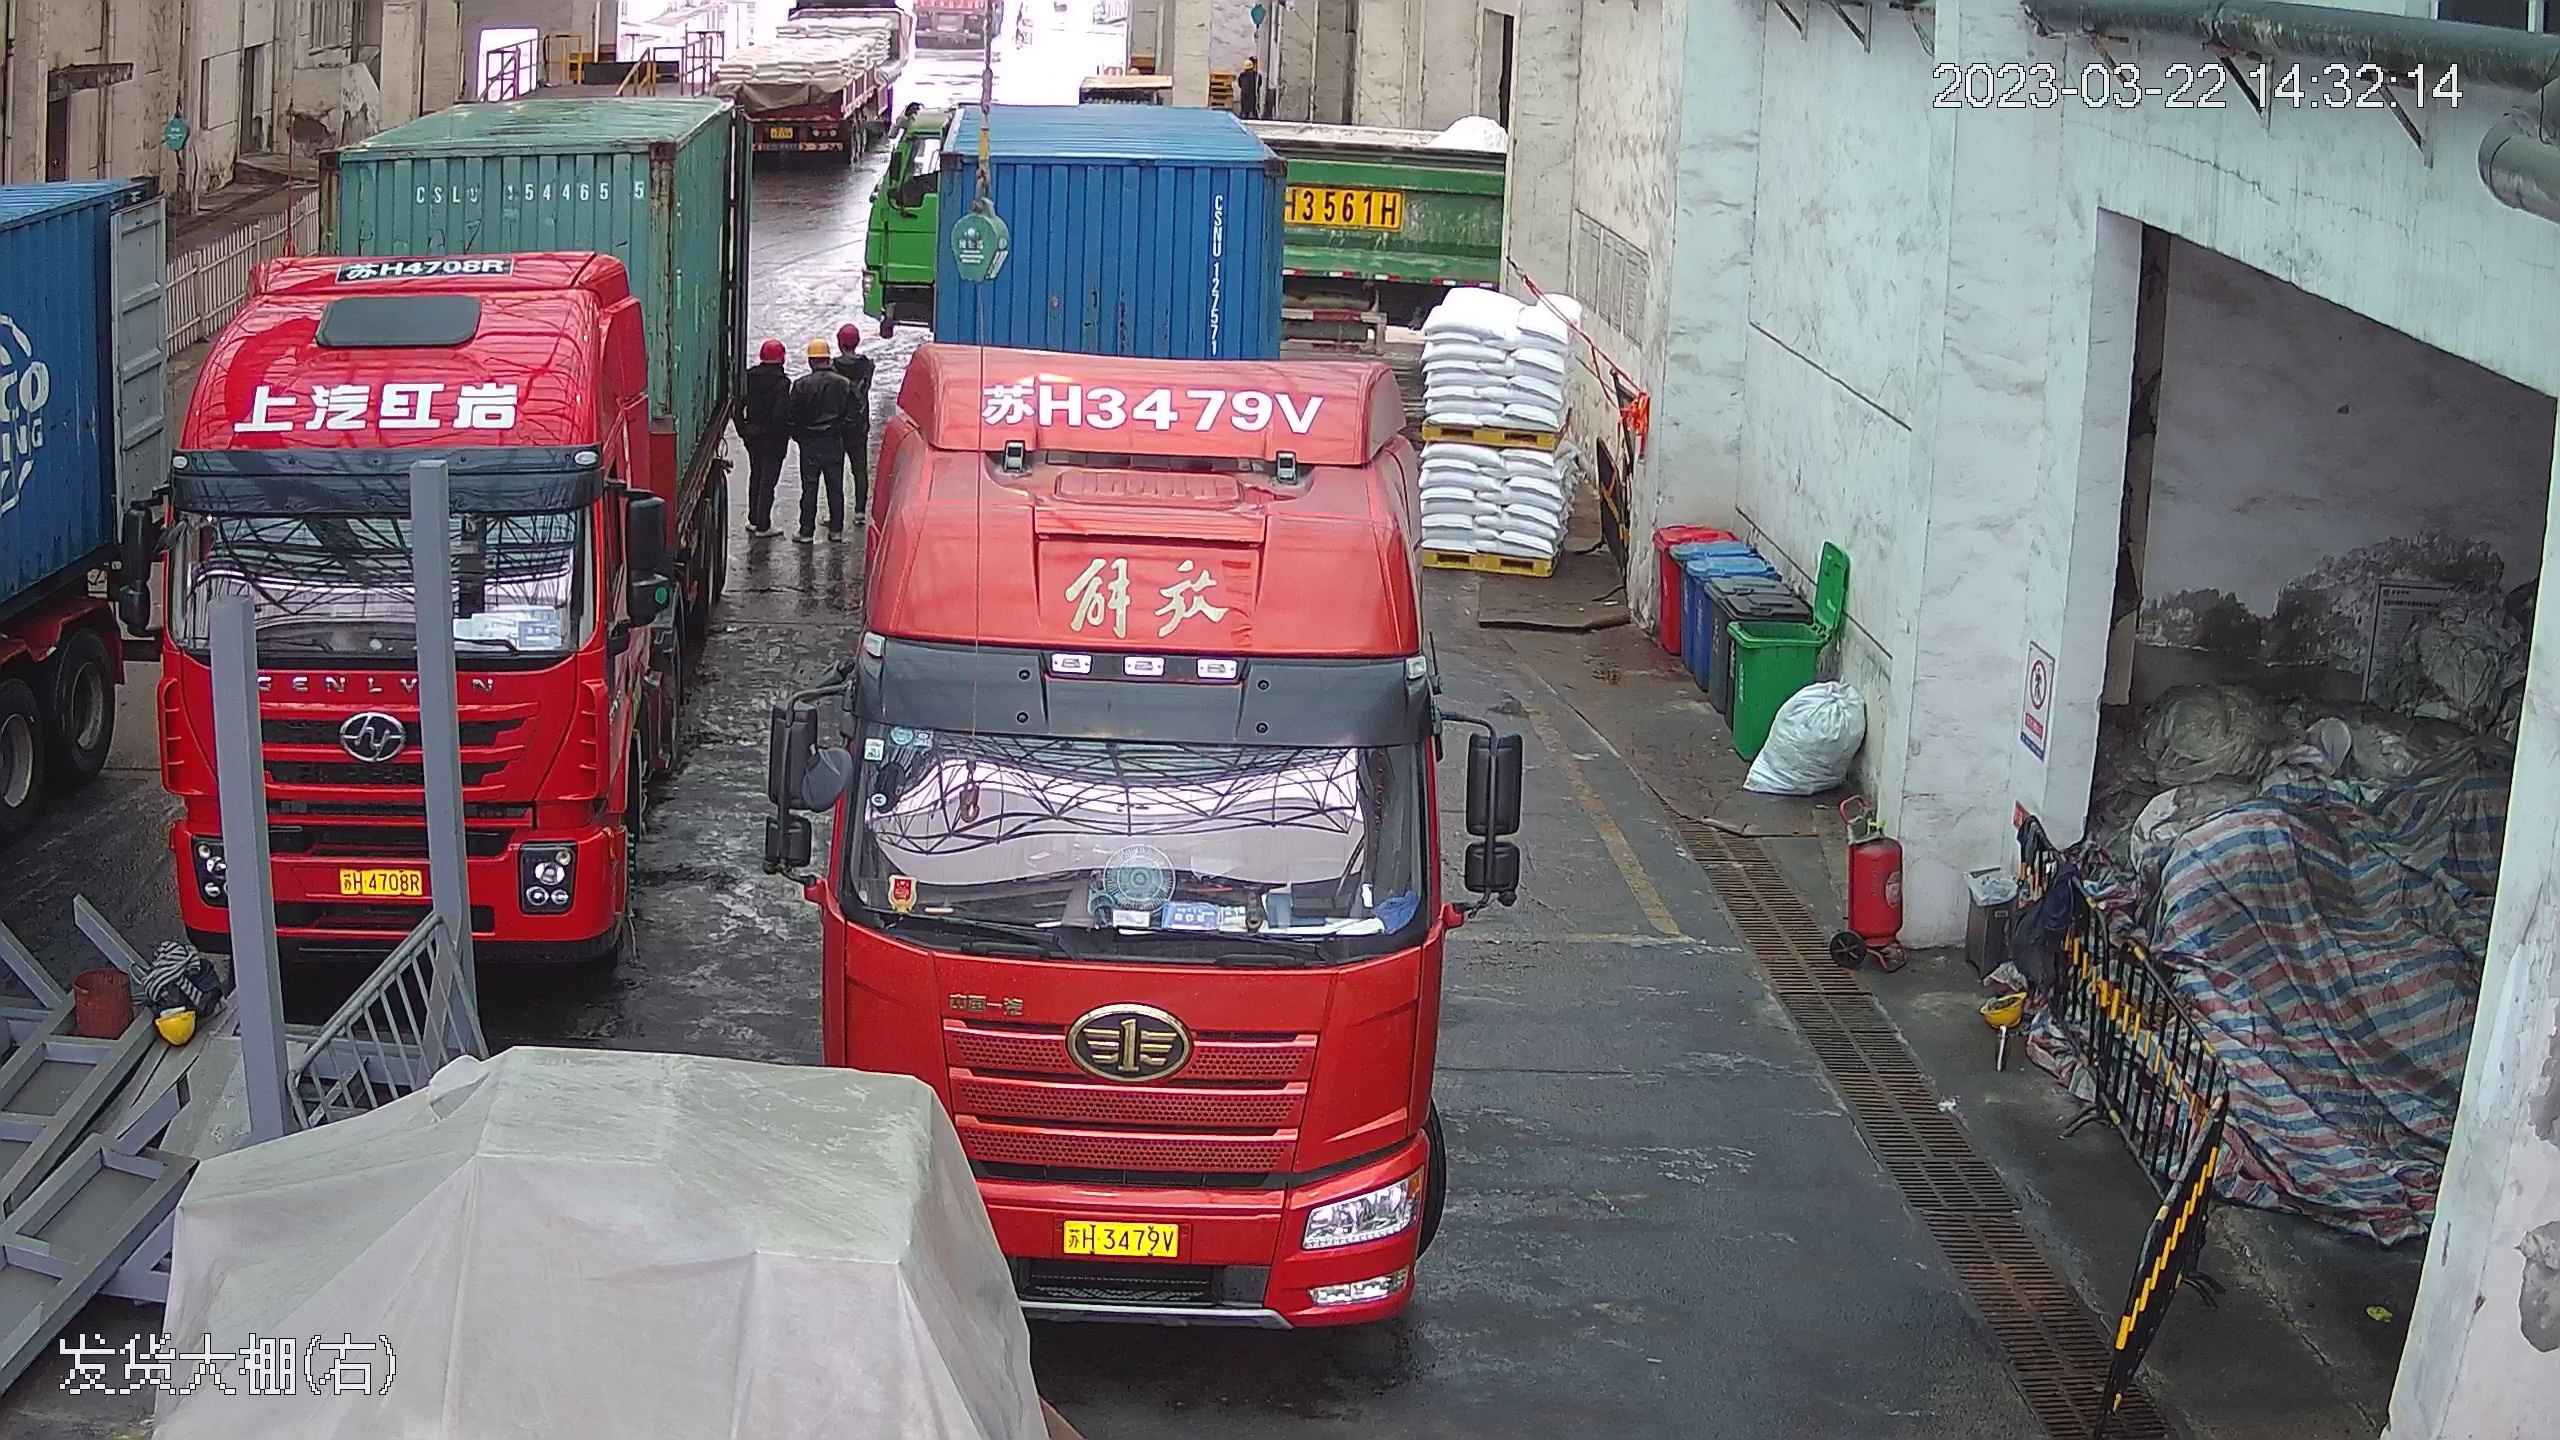head: (759, 328, 816, 396), (794, 333, 847, 402), (808, 324, 865, 387), (744, 334, 794, 397), (828, 318, 875, 375)
helmet: (756, 335, 787, 357), (807, 334, 836, 355), (839, 318, 864, 340)
people: (786, 327, 861, 543), (738, 332, 803, 539)
truck: (811, 43, 1477, 1315), (151, 42, 761, 969), (0, 56, 145, 970), (713, 7, 901, 172)
